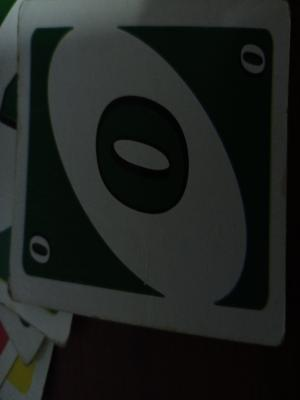num_0: (85, 85, 210, 235), (240, 40, 277, 89), (26, 231, 63, 277)
